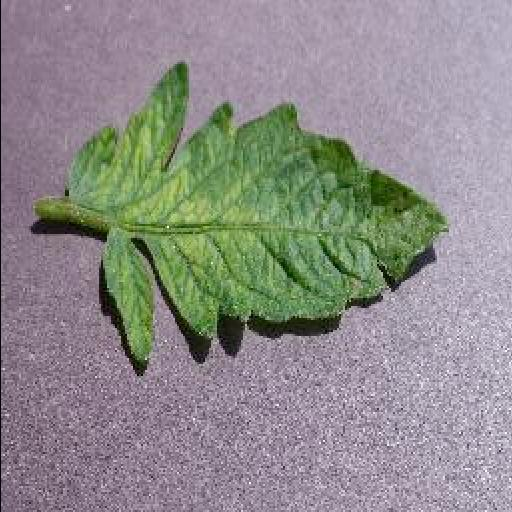Mosaic Virus: (60, 58, 452, 362)
